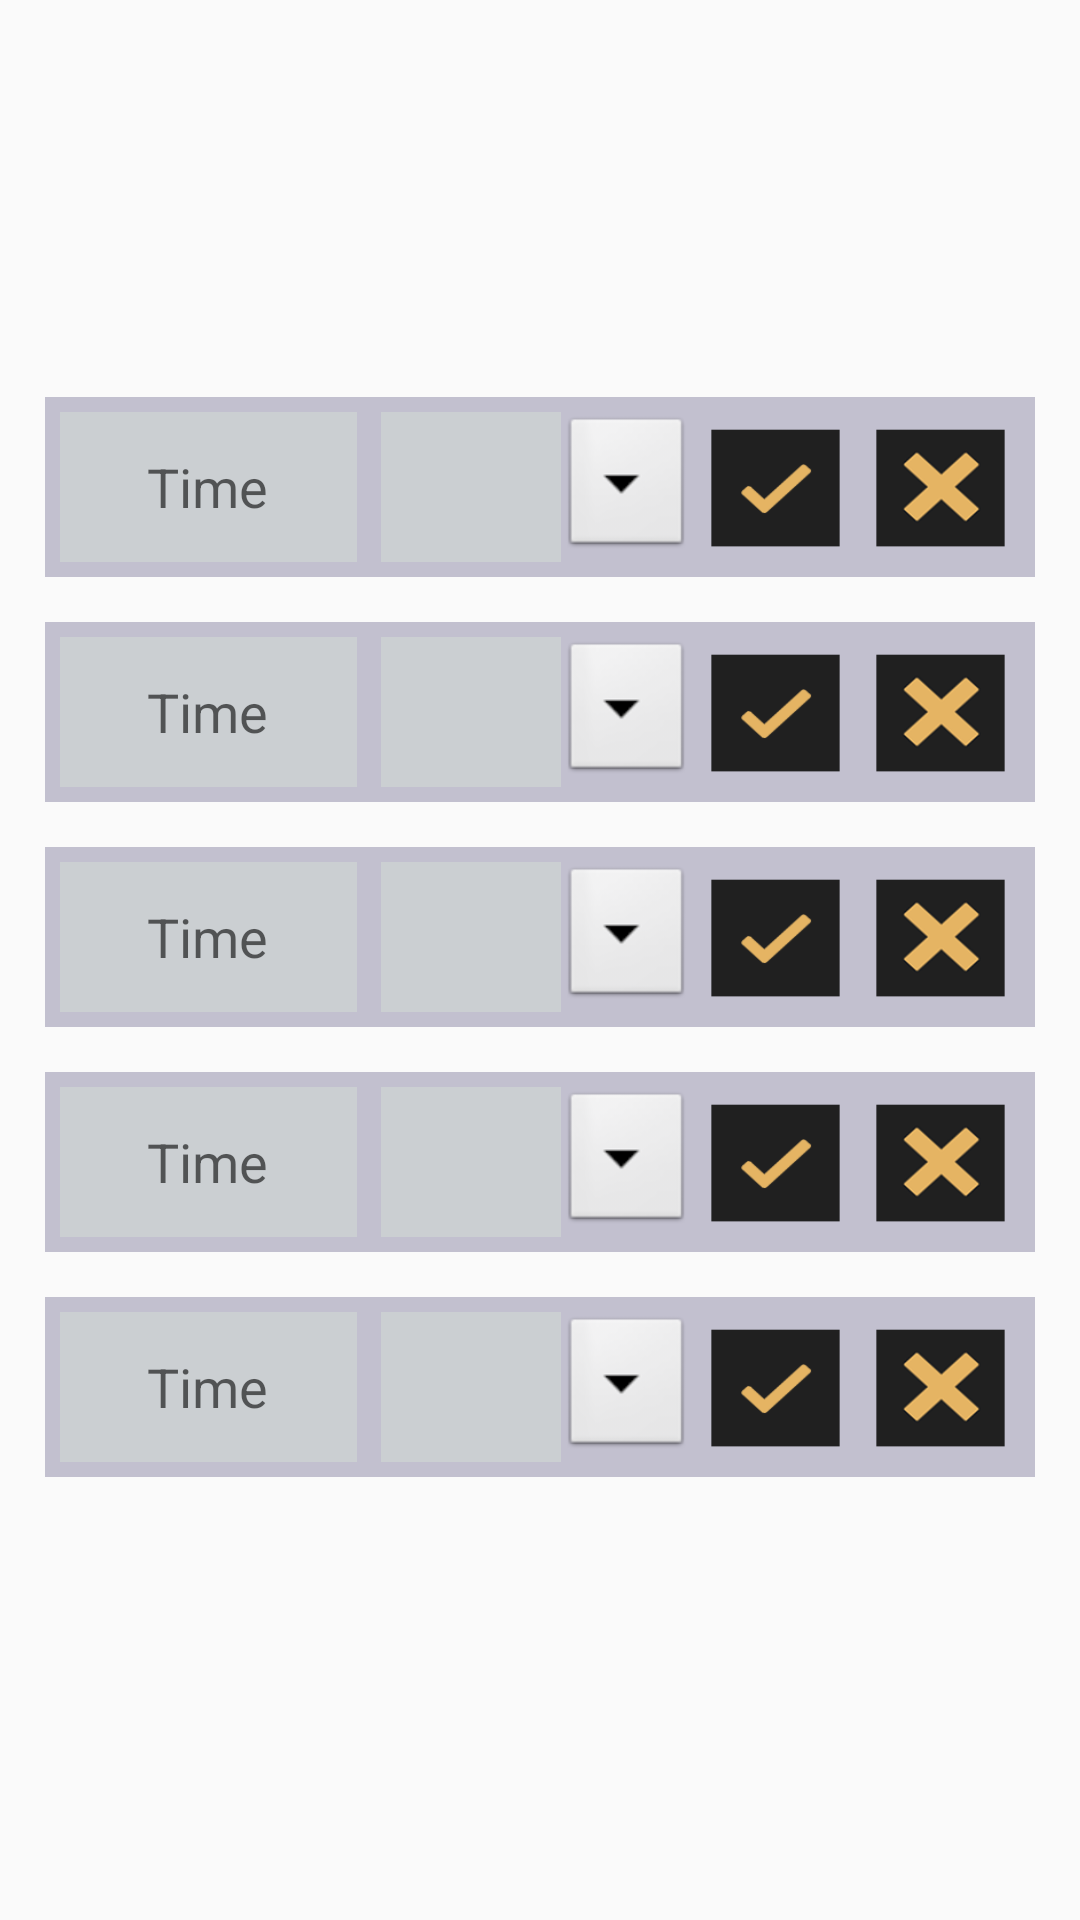

Screen size 1080*1920. Icon name, then its box in pixels as (x1, y1, x2, y2):
accept: (711, 429, 840, 547), (711, 654, 840, 772), (711, 879, 840, 997), (711, 1104, 840, 1222), (711, 1329, 840, 1447)
delete: (876, 429, 1005, 547), (876, 654, 1005, 772), (876, 879, 1005, 997), (876, 1104, 1005, 1222), (876, 1329, 1005, 1447)
